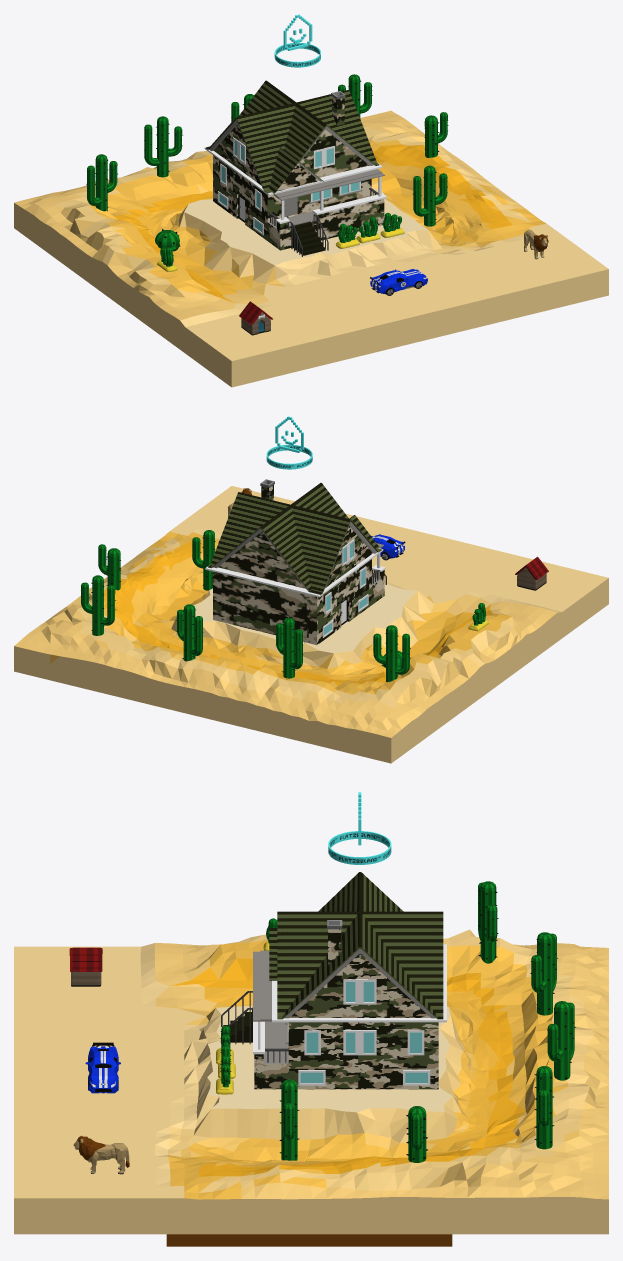
The picture shows the model from 3 angles, top to bottom: view 1: azimuth 30°, elevation 25°; view 2: azimuth 150°, elevation 25°; view 3: azimuth 270°, elevation 25°; orthographic projection. The views are drawn at different scales.
Parts seen in each view (by area): view 1: Cube.001, Cube.002, Cylinder.044, Cylinder.037, Cylinder.045, VEHICLES_RACING_CAR, TYPE_PREMIUM, Cylinder.038, OBJRANDOM_DOGHOUSE, Cylinder.042; view 2: Cube.001, Cube.002, Cylinder.042, Cylinder.045, Cylinder.044, Cylinder.043, TYPE_PREMIUM, Cylinder.037, Cylinder.038, OBJRANDOM_DOGHOUSE, VEHICLES_RACING_CAR; view 3: Cube.001, Cube.002, UNDERGROUND_ART_PIECE_VAN_GOGH, Cylinder.043, Cylinder.044, VEHICLES_RACING_CAR, Cylinder.045, Cylinder.042, Cylinder.037, OBJRANDOM_DOGHOUSE, TYPE_PREMIUM, ANIMAL_LEON (+1 smaller).
Boxes of the visible parts, bbox=[...] form: Cube.001: bbox=[14, 110, 608, 387]; Cube.002: bbox=[204, 80, 386, 256]; Cylinder.044: bbox=[144, 116, 182, 177]; Cylinder.037: bbox=[413, 165, 447, 226]; Cylinder.045: bbox=[86, 154, 117, 211]; VEHICLES_RACING_CAR: bbox=[370, 269, 427, 295]; TYPE_PREMIUM: bbox=[274, 14, 320, 67]; Cylinder.038: bbox=[424, 112, 448, 157]; OBJRANDOM_DOGHOUSE: bbox=[239, 301, 272, 335]; Cylinder.042: bbox=[338, 74, 372, 118]; Cube.001: bbox=[14, 486, 608, 763]; Cube.002: bbox=[205, 479, 386, 645]; Cylinder.042: bbox=[81, 575, 115, 635]; Cylinder.045: bbox=[373, 625, 410, 682]; Cylinder.044: bbox=[276, 617, 302, 678]; Cylinder.043: bbox=[176, 604, 203, 661]; TYPE_PREMIUM: bbox=[266, 416, 312, 469]; Cylinder.037: bbox=[192, 530, 215, 590]; Cylinder.038: bbox=[98, 544, 120, 590]; OBJRANDOM_DOGHOUSE: bbox=[515, 556, 548, 590]; VEHICLES_RACING_CAR: bbox=[371, 534, 405, 560]; Cube.001: bbox=[14, 929, 608, 1234]; Cube.002: bbox=[221, 872, 446, 1089]; UNDERGROUND_ART_PIECE_VAN_GOGH: bbox=[166, 1234, 452, 1246]; Cylinder.043: bbox=[546, 1001, 575, 1080]; Cylinder.044: bbox=[530, 932, 557, 1015]; VEHICLES_RACING_CAR: bbox=[85, 1042, 120, 1093]; Cylinder.045: bbox=[478, 881, 498, 963]; Cylinder.042: bbox=[534, 1066, 554, 1149]; Cylinder.037: bbox=[279, 1079, 299, 1160]; OBJRANDOM_DOGHOUSE: bbox=[69, 947, 102, 986]; TYPE_PREMIUM: bbox=[328, 792, 391, 864]; ANIMAL_LEON: bbox=[73, 1135, 129, 1174].
Bounding box in the file's own units: 4002 × 2563 × 4001.
Materials: 39 (6 with a texture image).
